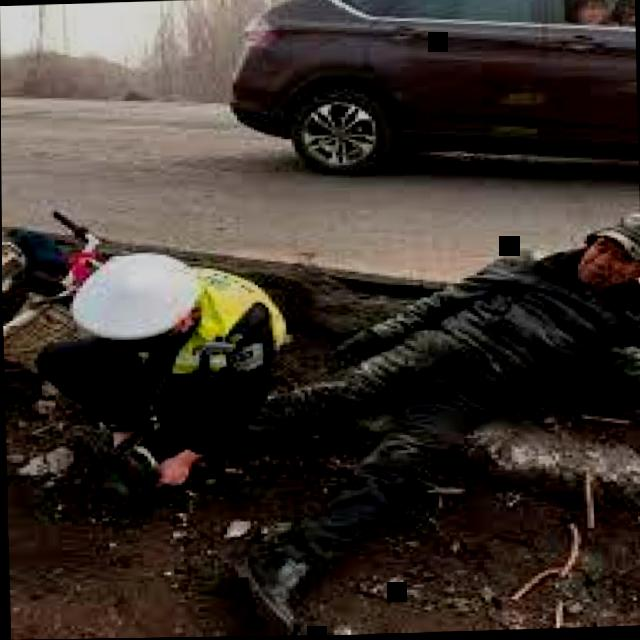Fall-Detected: (73, 208, 640, 615)
